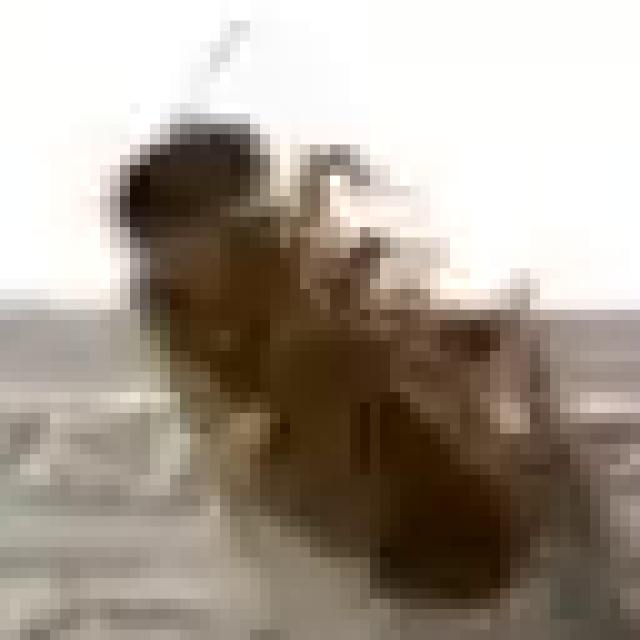honeybee: (56, 109, 600, 569)
